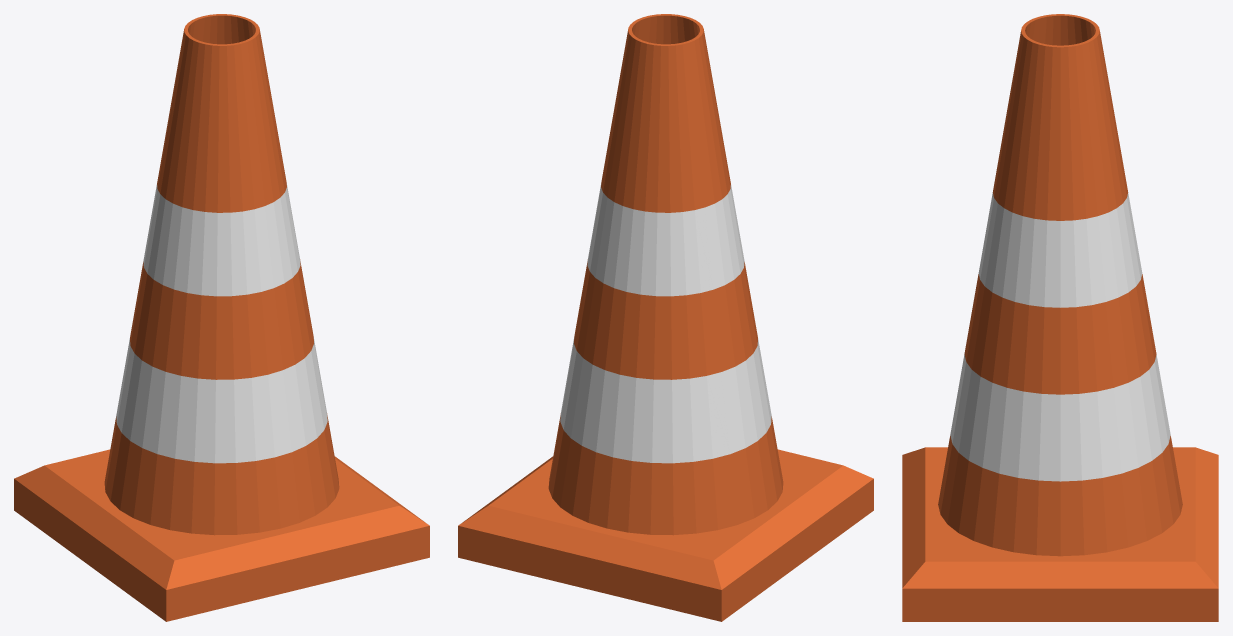
3 renders of one model, left to right at view 1: azimuth 30°, elevation 25°; view 2: azimuth 150°, elevation 25°; view 3: azimuth 270°, elevation 25°, orthographic. The views are drawn at different scales.
Visible parts, largest first — view 1: Cube.057; view 2: Cube.057; view 3: Cube.057.
Part boxes in pixels (left/top/right/bottom): Cube.057: left=14, top=14, right=429, bottom=621; Cube.057: left=458, top=14, right=873, bottom=621; Cube.057: left=902, top=14, right=1218, bottom=621.
Size of the model in its own units: 97.26 by 178 by 97.26.
